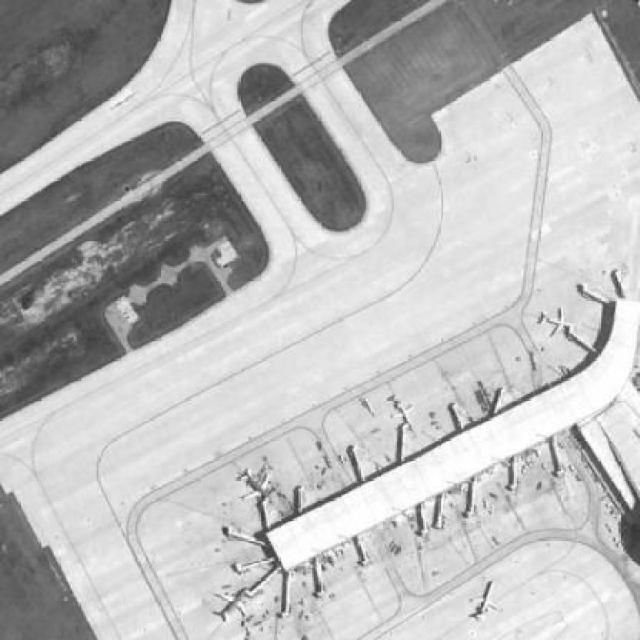airplane: (208, 583, 257, 628), (465, 576, 506, 624), (234, 463, 279, 505), (534, 306, 579, 343), (387, 391, 421, 429)
